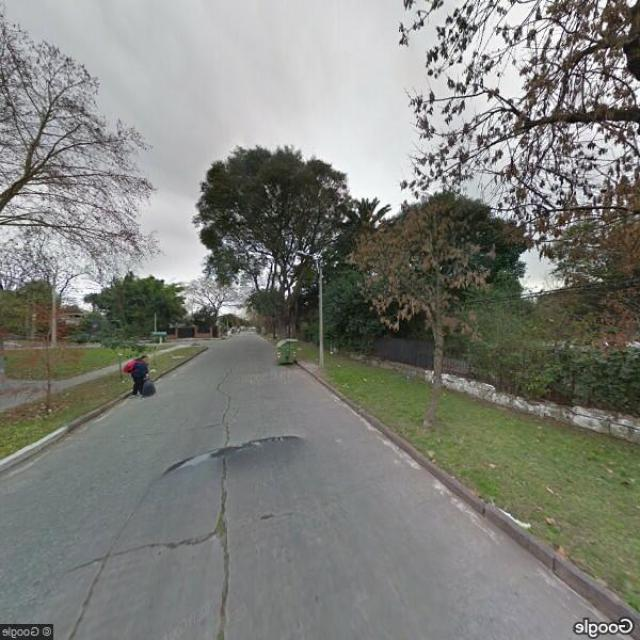garbage container: (272, 332, 305, 370)
